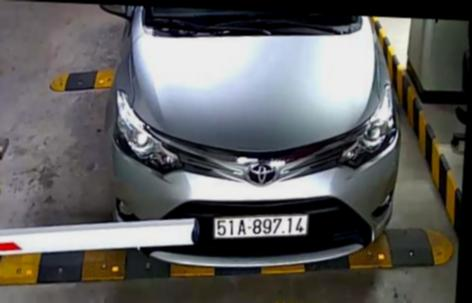License_Plate: (212, 208, 313, 245)
